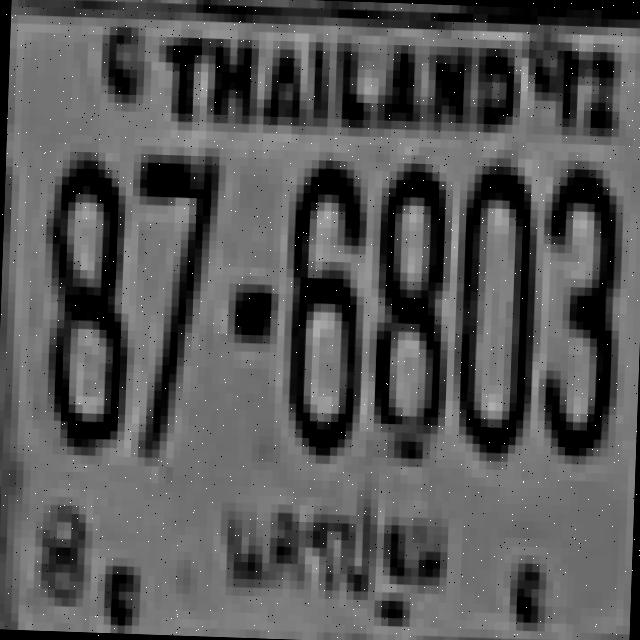0: (371, 162, 446, 316)
3: (532, 164, 620, 452)
7: (132, 145, 216, 325)
8: (38, 154, 126, 443), (38, 175, 125, 448), (366, 162, 446, 450), (366, 192, 446, 454)
NakhonPathom: (195, 474, 463, 634)
